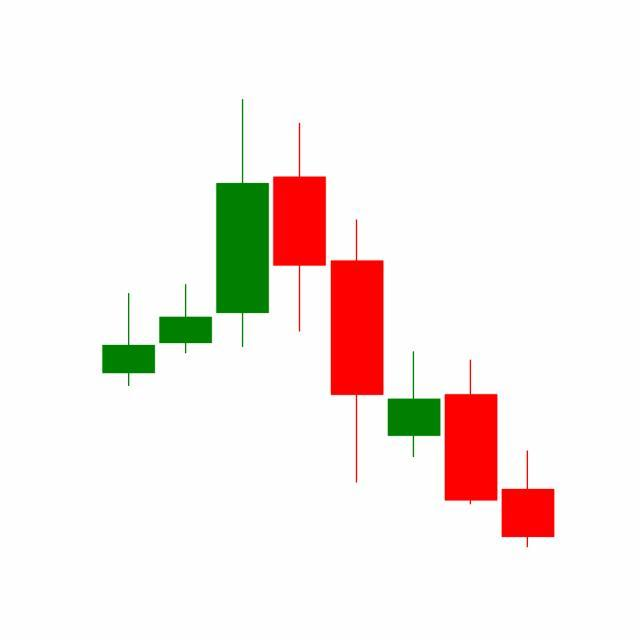Hikkake Pattern: (214, 100, 501, 511)
